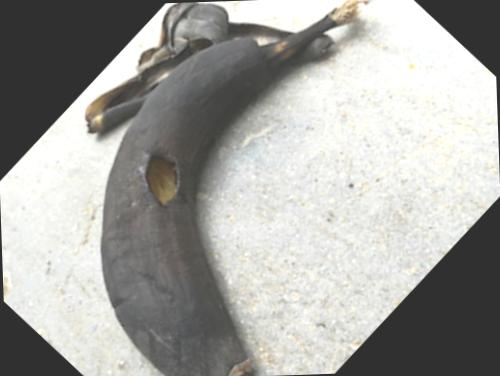Banana Overripe: (67, 0, 359, 376)
